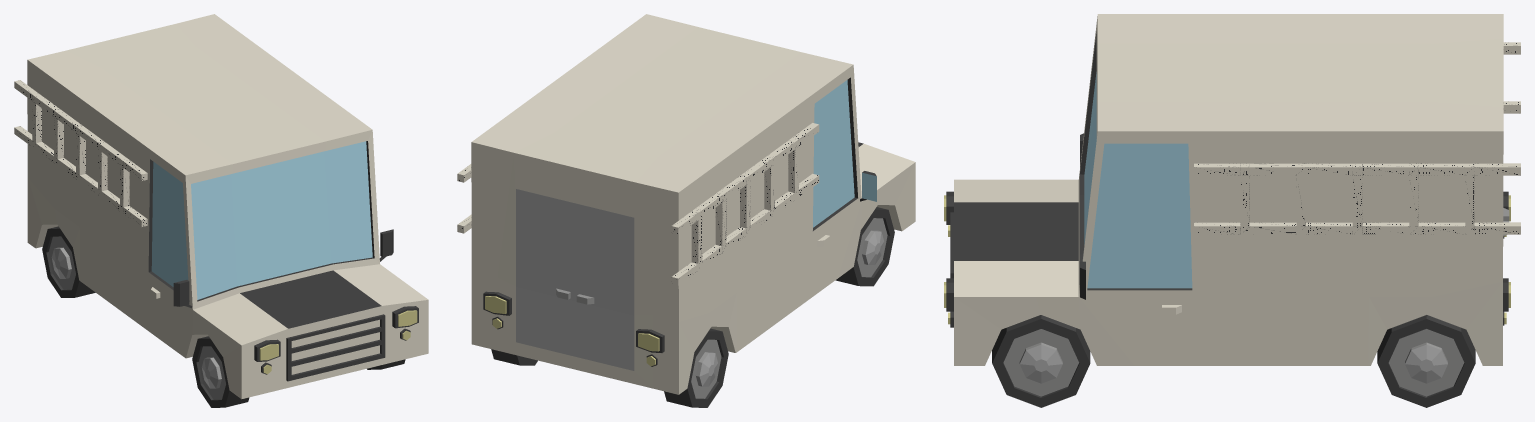
Rendered from UtilTruck.fbx.
3 views of the same model, side by side, from view 1: azimuth 30°, elevation 25°; view 2: azimuth 150°, elevation 25°; view 3: azimuth 270°, elevation 25° (orthographic). The views are drawn at different scales.
Parts seen in each view (by area): view 1: UtilVan; view 2: UtilVan; view 3: UtilVan.
Boxes of the visible parts, x1,y1,x2,y2 form: UtilVan: [14, 14, 428, 407]; UtilVan: [457, 14, 915, 407]; UtilVan: [944, 14, 1520, 407].
Size of the model in its own units: 349 by 330 by 618.
